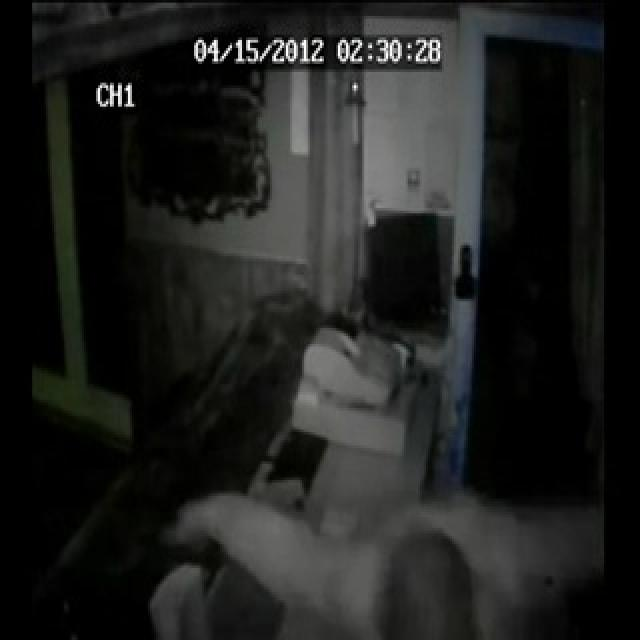thief: (348, 501, 498, 640)
